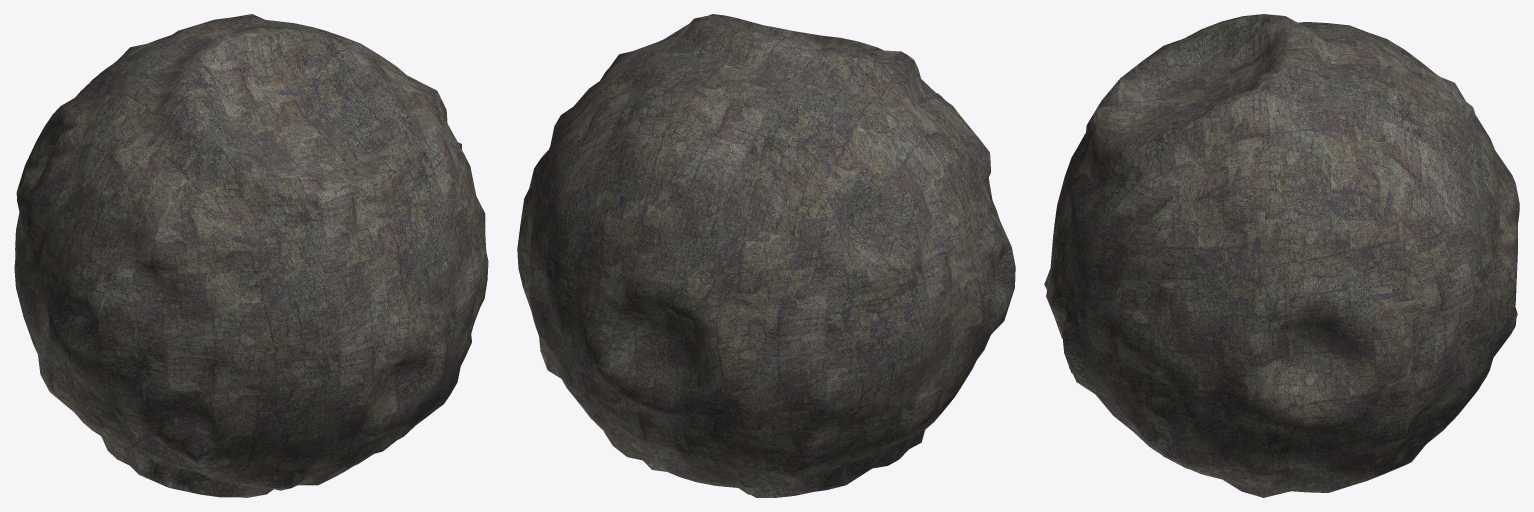
File: HikeGardenCannonRelayPlanet.fbx
3 renders of one model, left to right at view 1: azimuth 30°, elevation 25°; view 2: azimuth 150°, elevation 25°; view 3: azimuth 270°, elevation 25°, orthographic.
Visible parts, largest first — view 1: mesh-0; view 2: mesh-0; view 3: mesh-0.
Part boxes in pixels (box(x1,y1,x2,y2)): mesh-0: box(14, 14, 488, 497); mesh-0: box(517, 14, 1015, 497); mesh-0: box(1044, 14, 1519, 497).
Bounding box in the file's own units: 63946 × 63057 × 62718.
Materials: 1 (1 with a texture image).
